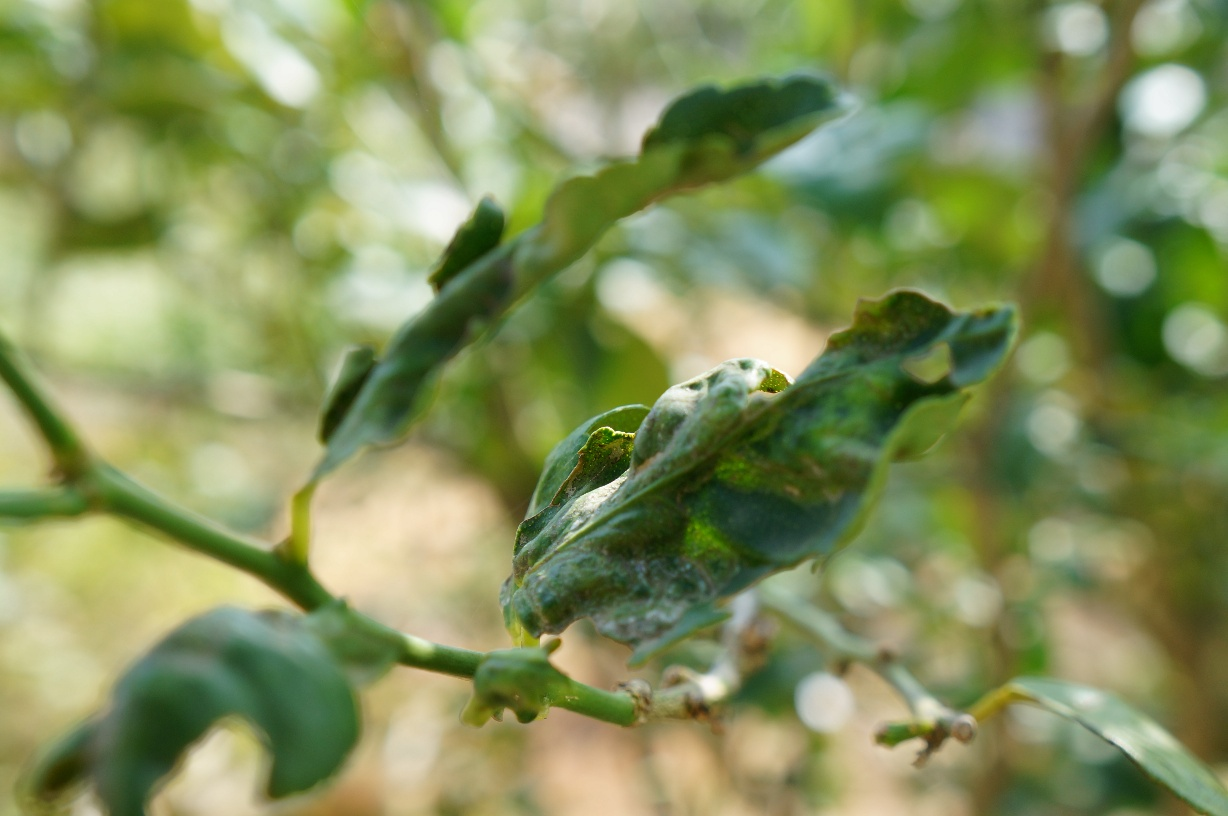damage: (496, 286, 1036, 680)
